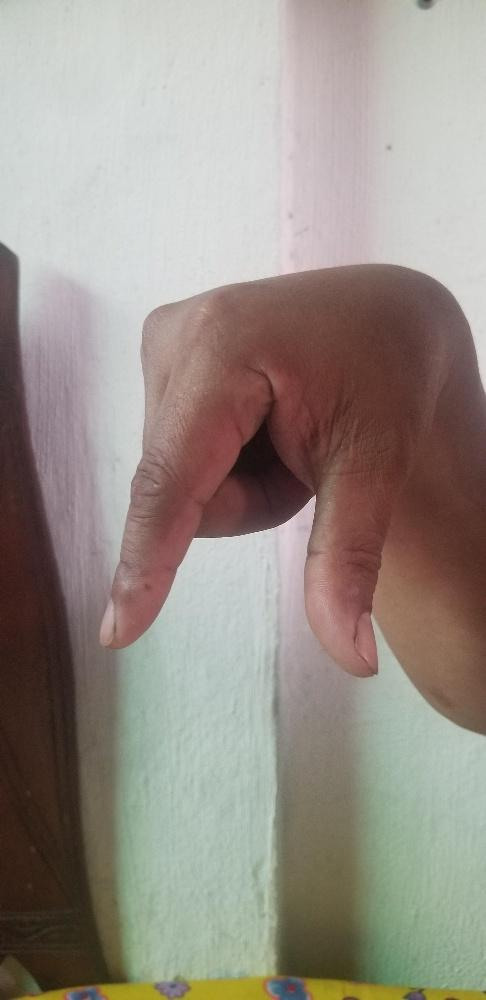q: (95, 259, 440, 679)
